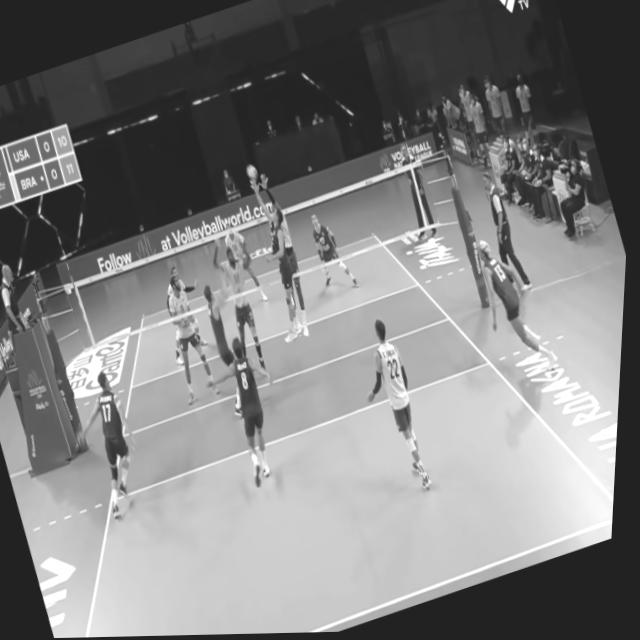player: (341, 310, 460, 509), (193, 326, 310, 495), (467, 229, 573, 389), (65, 365, 170, 523), (242, 174, 329, 348), (202, 228, 290, 388), (155, 271, 237, 416), (190, 259, 264, 381), (218, 219, 277, 311), (307, 209, 362, 294), (156, 257, 210, 316)
